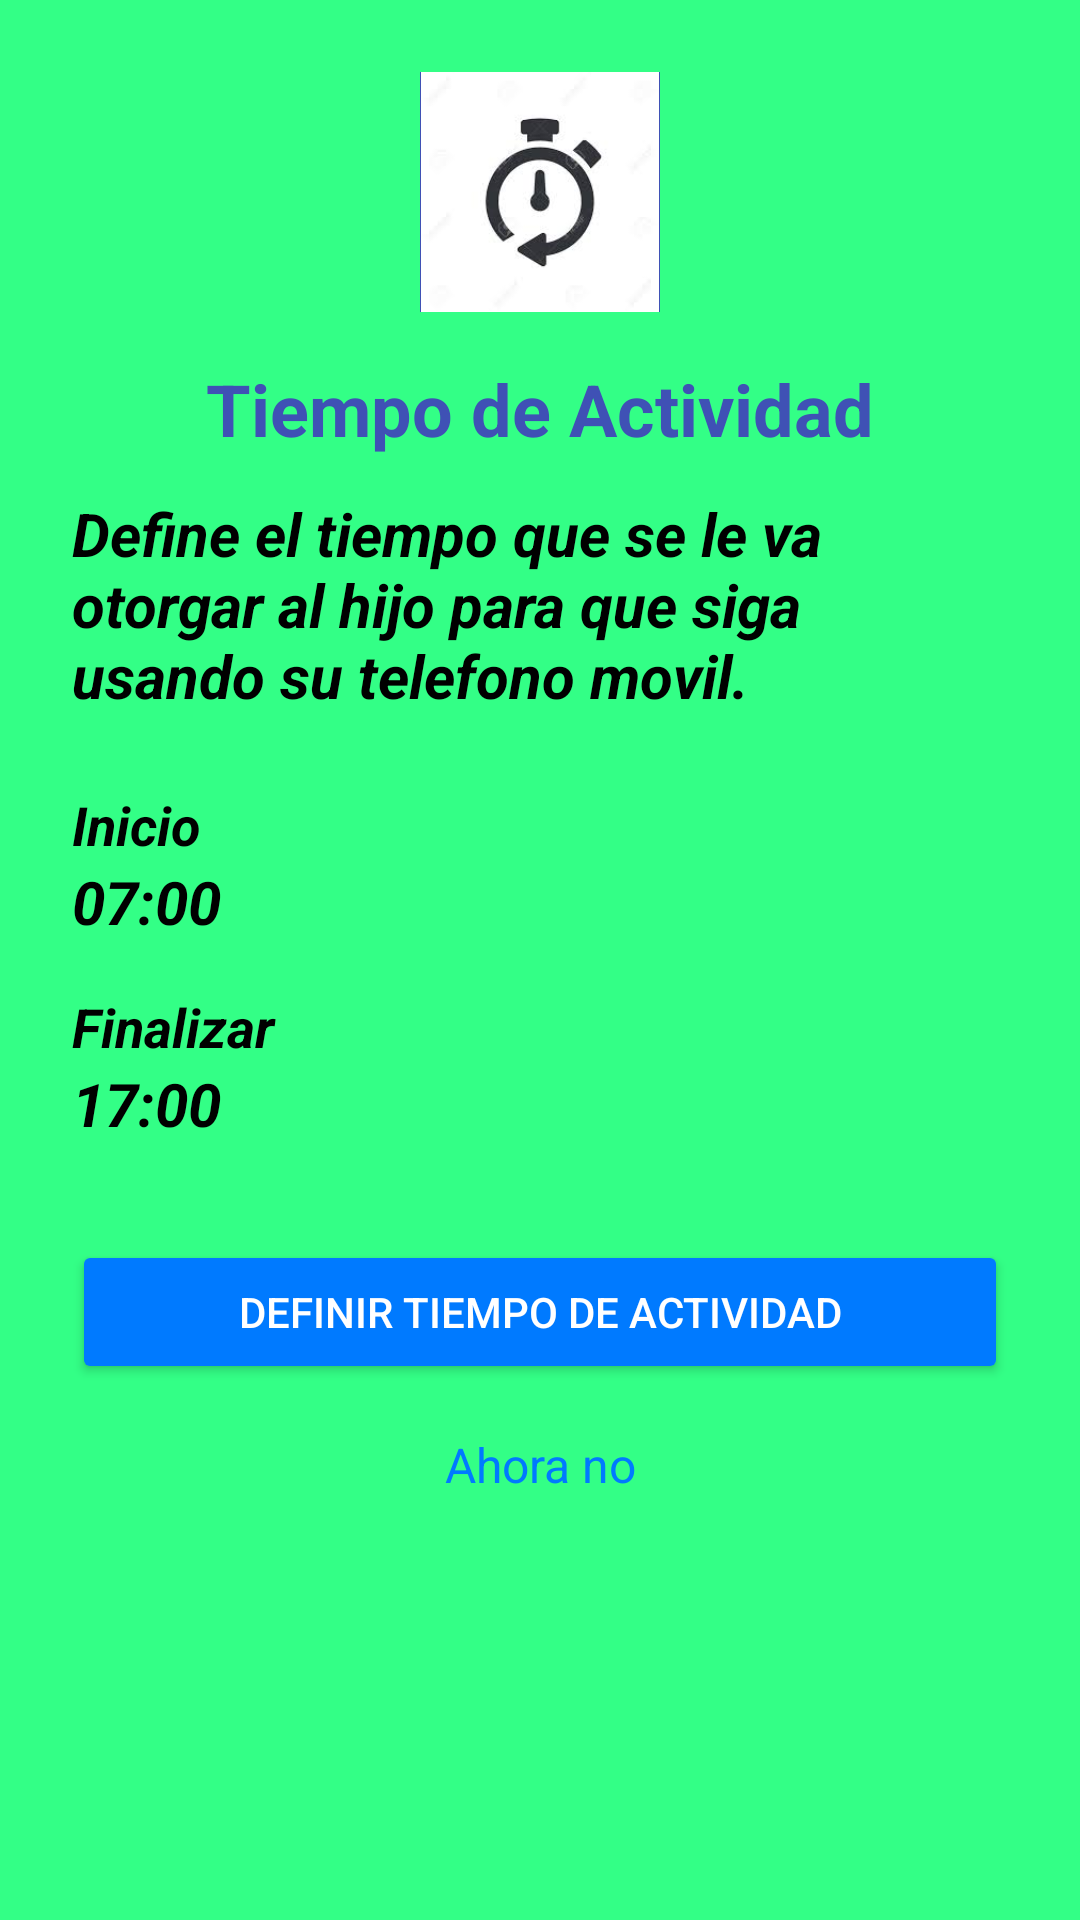

Named icons in this screenshot (1080 × 1920) and their bounding boxes, (x1, y1, x2, y2):
Icono tiempo de inactividad: (420, 72, 660, 312)
